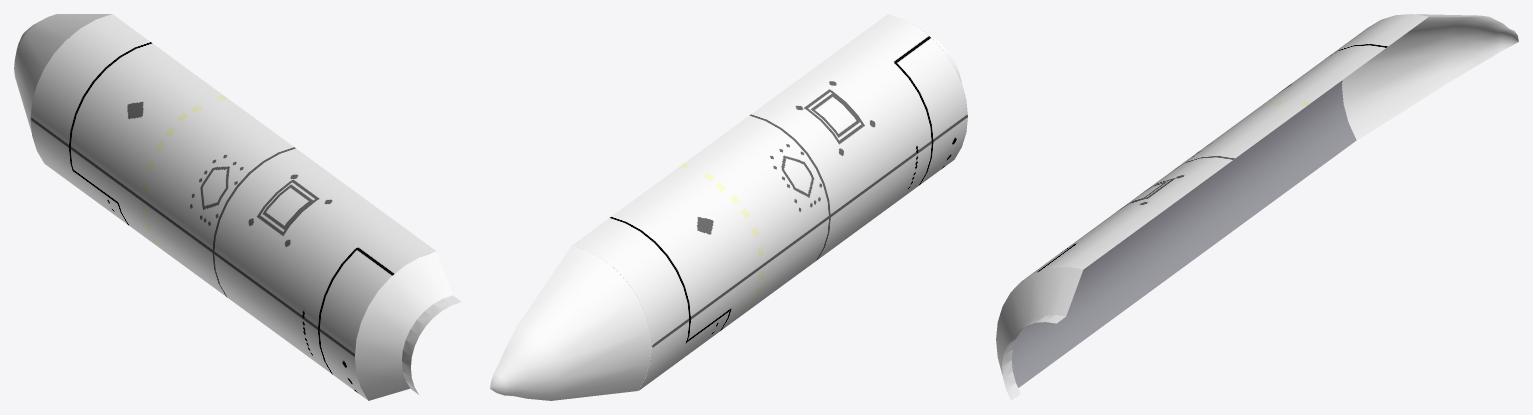
Rendered from fairing613b.obj.
3 renders of one model, left to right at view 1: azimuth 30°, elevation 25°; view 2: azimuth 150°, elevation 25°; view 3: azimuth 330°, elevation 25°, orthographic. The views are drawn at different scales.
Parts seen in each view (by area): view 1: group1; view 2: group1; view 3: group0, group1.
Boxes of the visible parts, x1=… form: group1: x1=14, y1=14, x2=461, y2=400; group1: x1=490, y1=14, x2=967, y2=400; group0: x1=1002, y1=16, x2=1518, y2=400; group1: x1=996, y1=14, x2=1487, y2=375.
Bounding box in the file's own units: 2.51 × 3.89 × 22.97.
2 materials, 2 textured.
